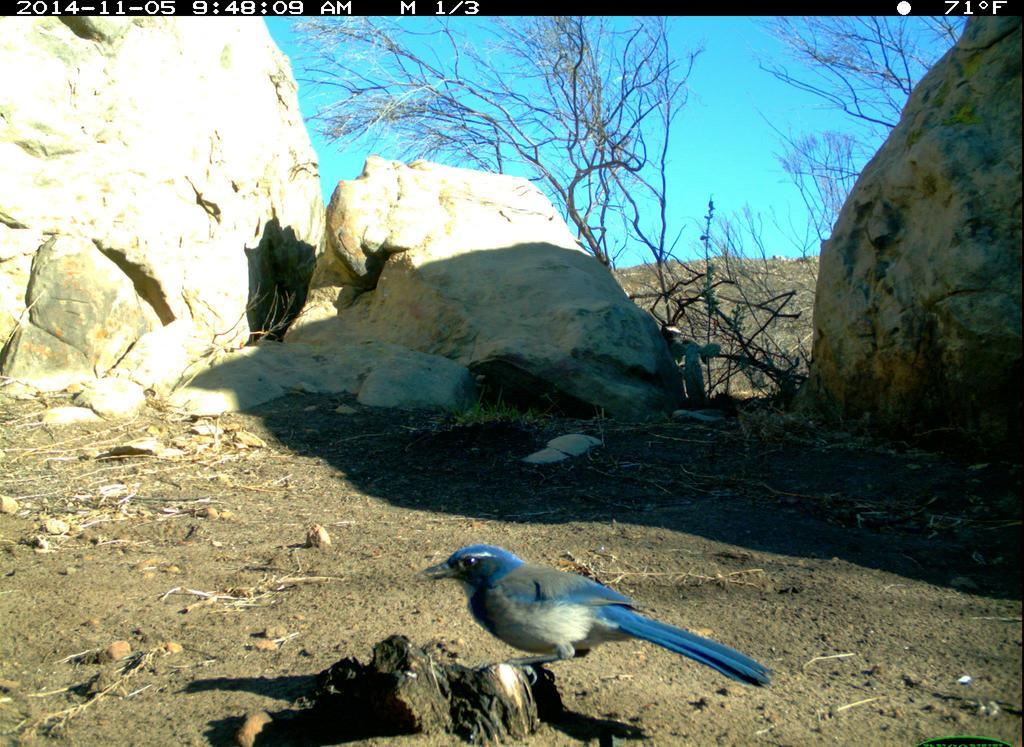bird: (399, 538, 798, 733)
